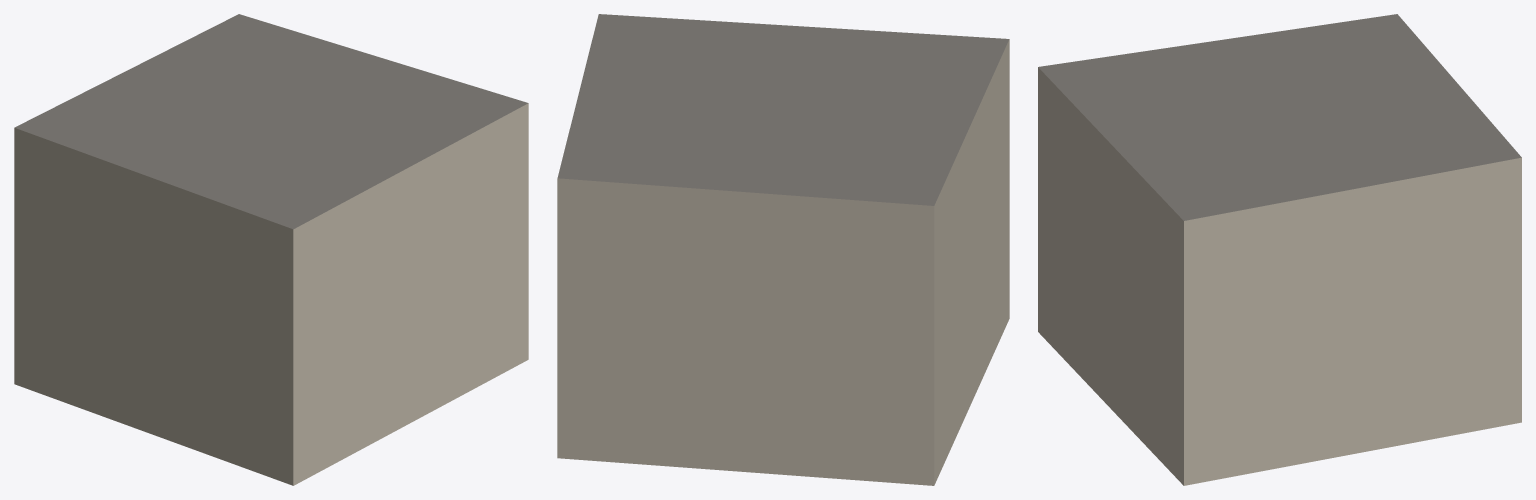
3 renders of one model, left to right at view 1: azimuth 30°, elevation 25°; view 2: azimuth 150°, elevation 25°; view 3: azimuth 270°, elevation 25°, orthographic. The views are drawn at different scales.
Visible parts, largest first — view 1: HP-w505655124; view 2: HP-w505655124; view 3: HP-w505655124.
Part boxes in pixels (<box>): HP-w505655124: <box>14,14,528,485</box>; HP-w505655124: <box>557,14,1009,485</box>; HP-w505655124: <box>1038,14,1521,485</box>.
Size of the model in its own units: 20.11 by 12 by 19.87.
